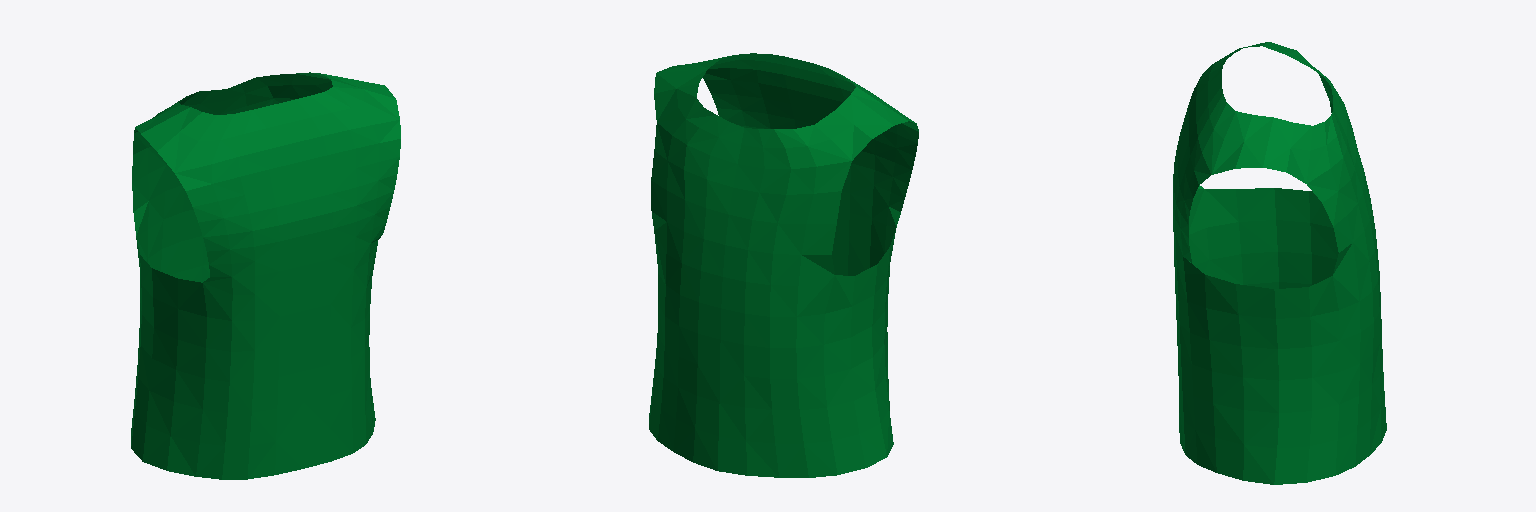
Rendered from CheapRag.obj.
The picture shows the model from 3 angles: view 1: azimuth 30°, elevation 25°; view 2: azimuth 150°, elevation 25°; view 3: azimuth 270°, elevation 25°; orthographic projection.
Visible parts, largest first — view 1: Box001; view 2: Box001; view 3: Box001.
Boxes of the visible parts, box(x1,y1,x2,y2) form: Box001: box(131, 72, 400, 479); Box001: box(649, 53, 918, 477); Box001: box(1173, 42, 1386, 484).
Bounding box in the file's own units: 0.9208 × 1.28 × 0.7069.